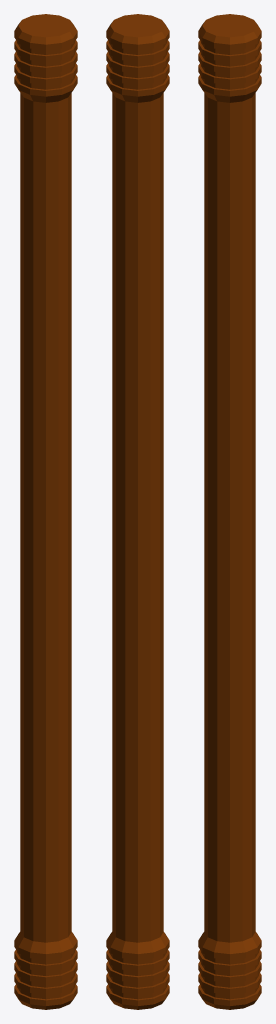
Rendered from Wooden Staff.fbx.
3 renders of one model, left to right at view 1: azimuth 90°, elevation 25°; view 2: azimuth 150°, elevation 25°; view 3: azimuth 270°, elevation 25°, orthographic.
Visible parts, largest first — view 1: Staff; view 2: Staff; view 3: Staff.
Boxes of the visible parts, left/top/right/bottom form: Staff: left=14, top=14, right=77, bottom=1009; Staff: left=106, top=14, right=169, bottom=1009; Staff: left=198, top=14, right=261, bottom=1009.
Size of the model in its own units: 149 by 2517 by 149.
